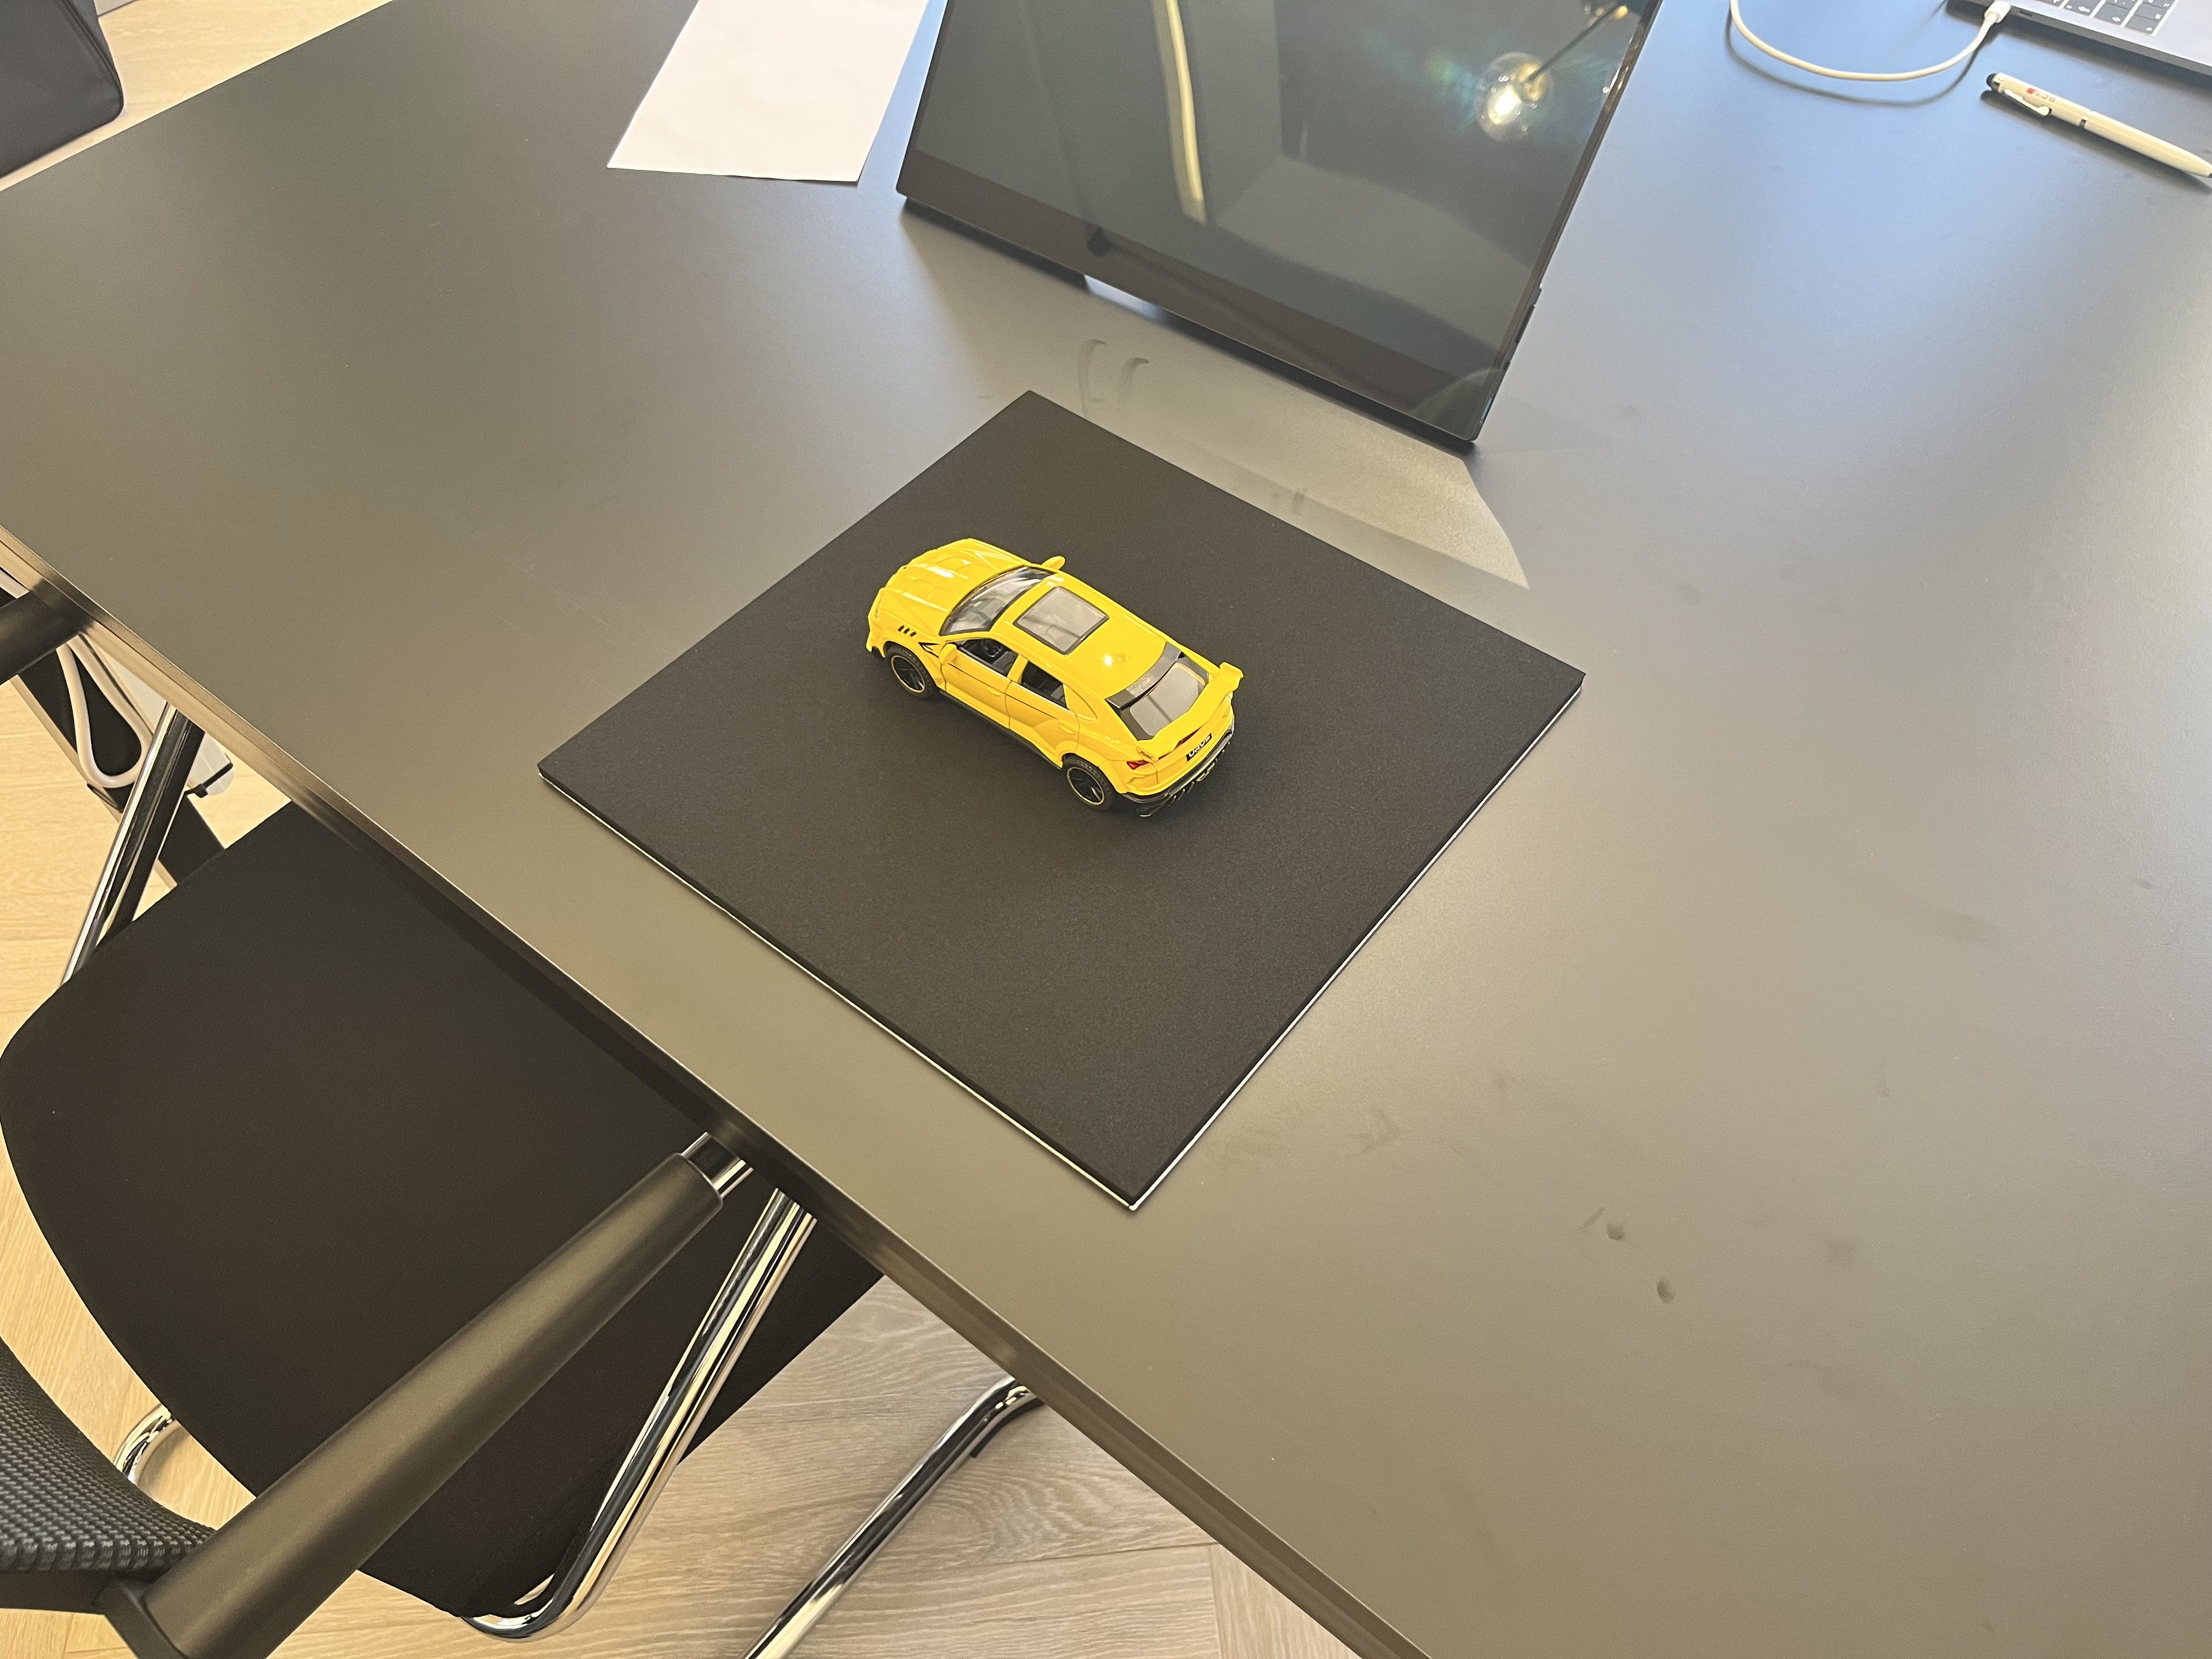lambo: (859, 535, 1245, 821)
